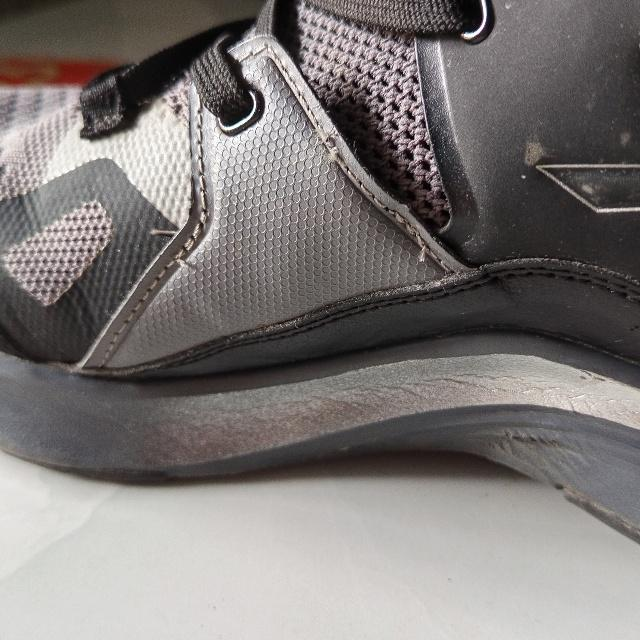broken-error: (314, 125, 345, 171)
